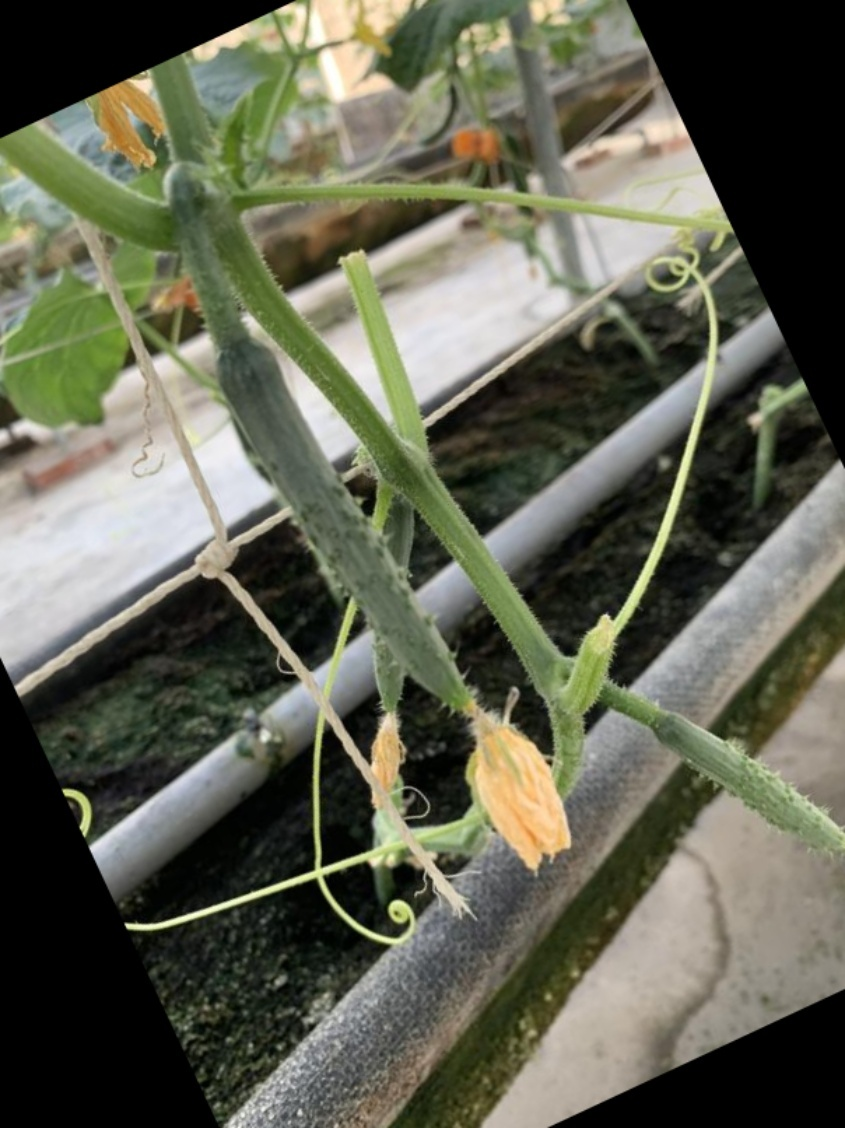flowering: (205, 313, 512, 808)
